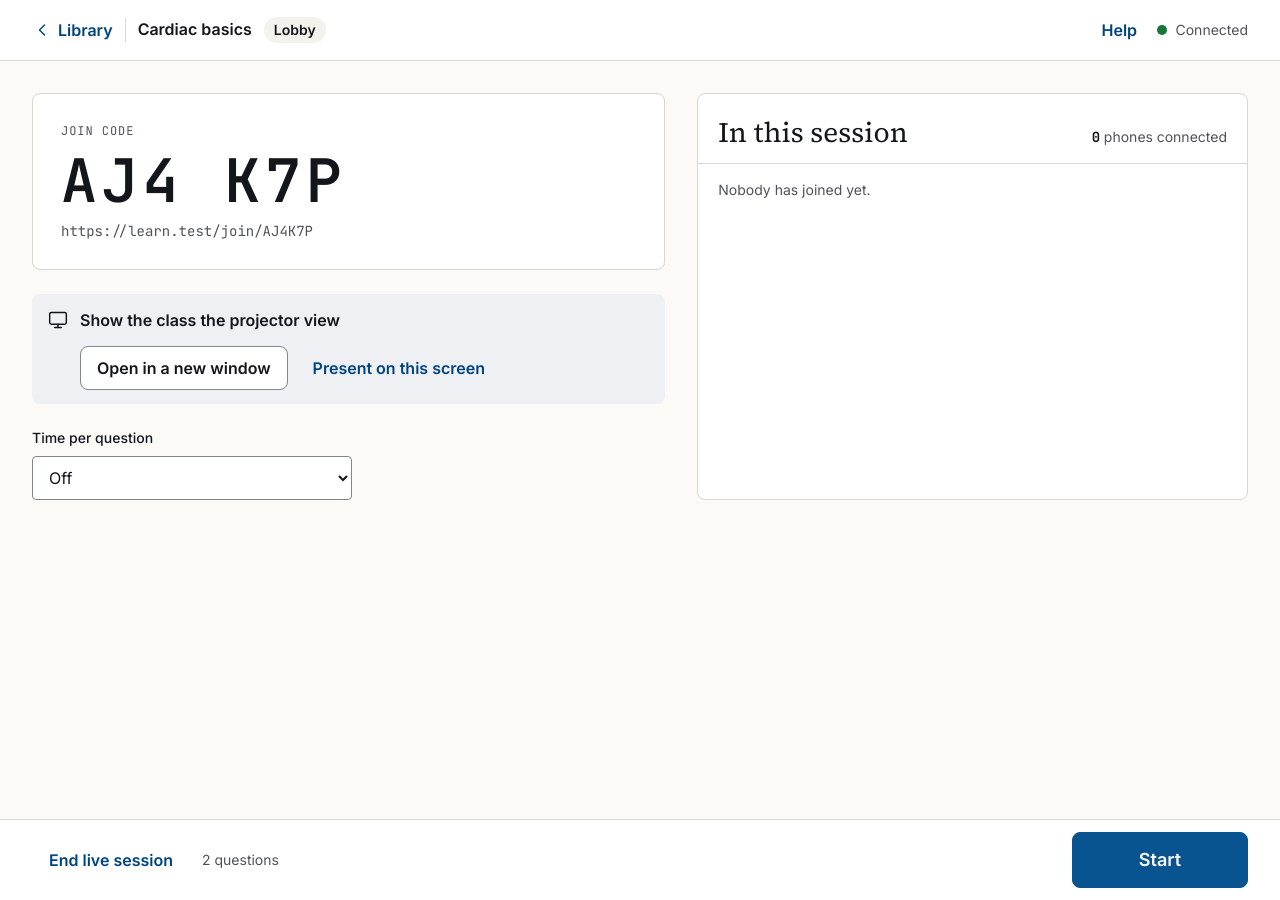
Test: the control view: one primary move at a time › keeps Next question off the bar until the answer is showing, so the reveal is never skipped
Click the button "Start": (1160, 860) top-left (1072, 832), bottom-right (1248, 888)
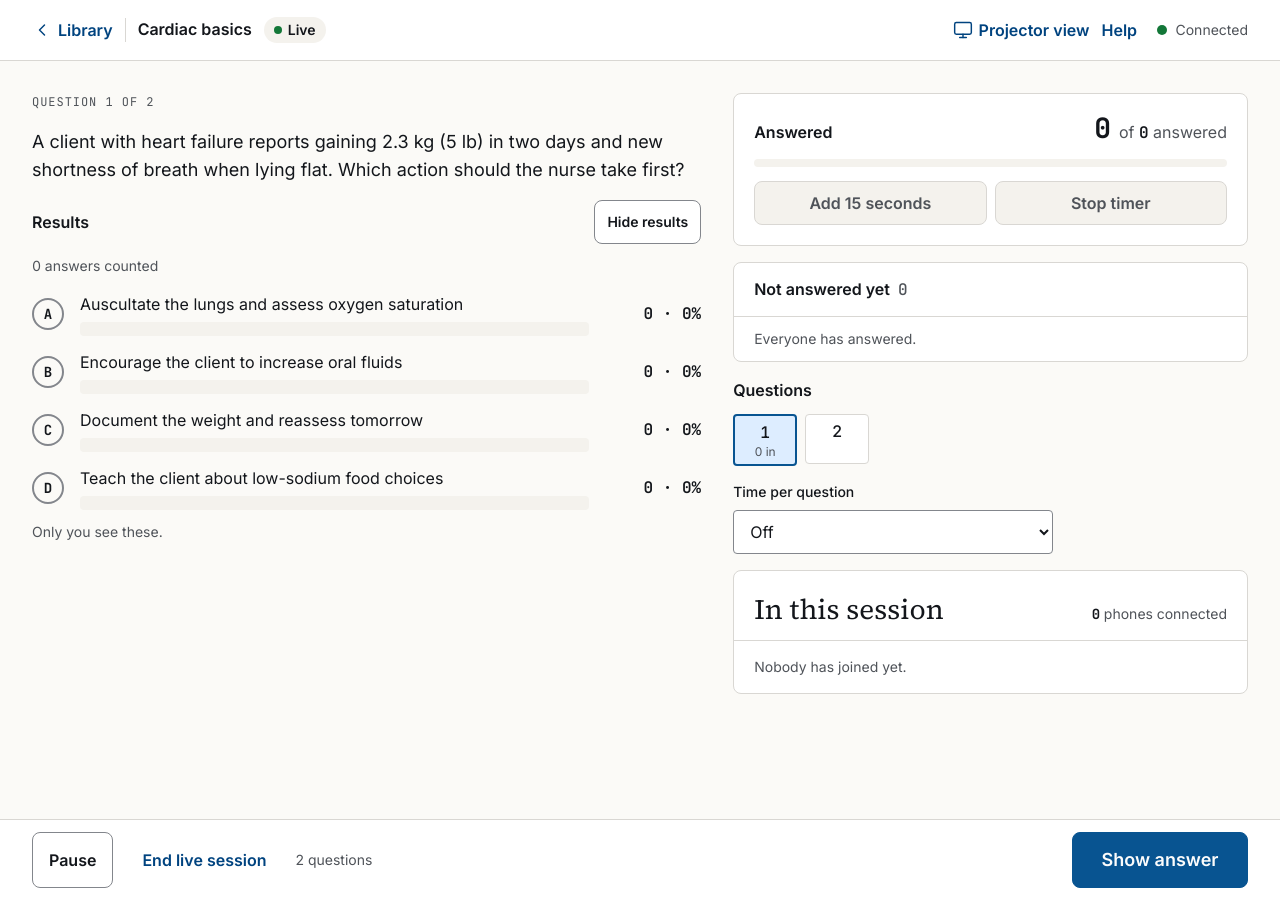
Check: the button "Next question" is not shown
Check: the button named "Go to question 2" is enabled, box top-left (805, 414), bottom-right (869, 464)
Click the button "Show answer": (1160, 860) top-left (1072, 832), bottom-right (1248, 888)
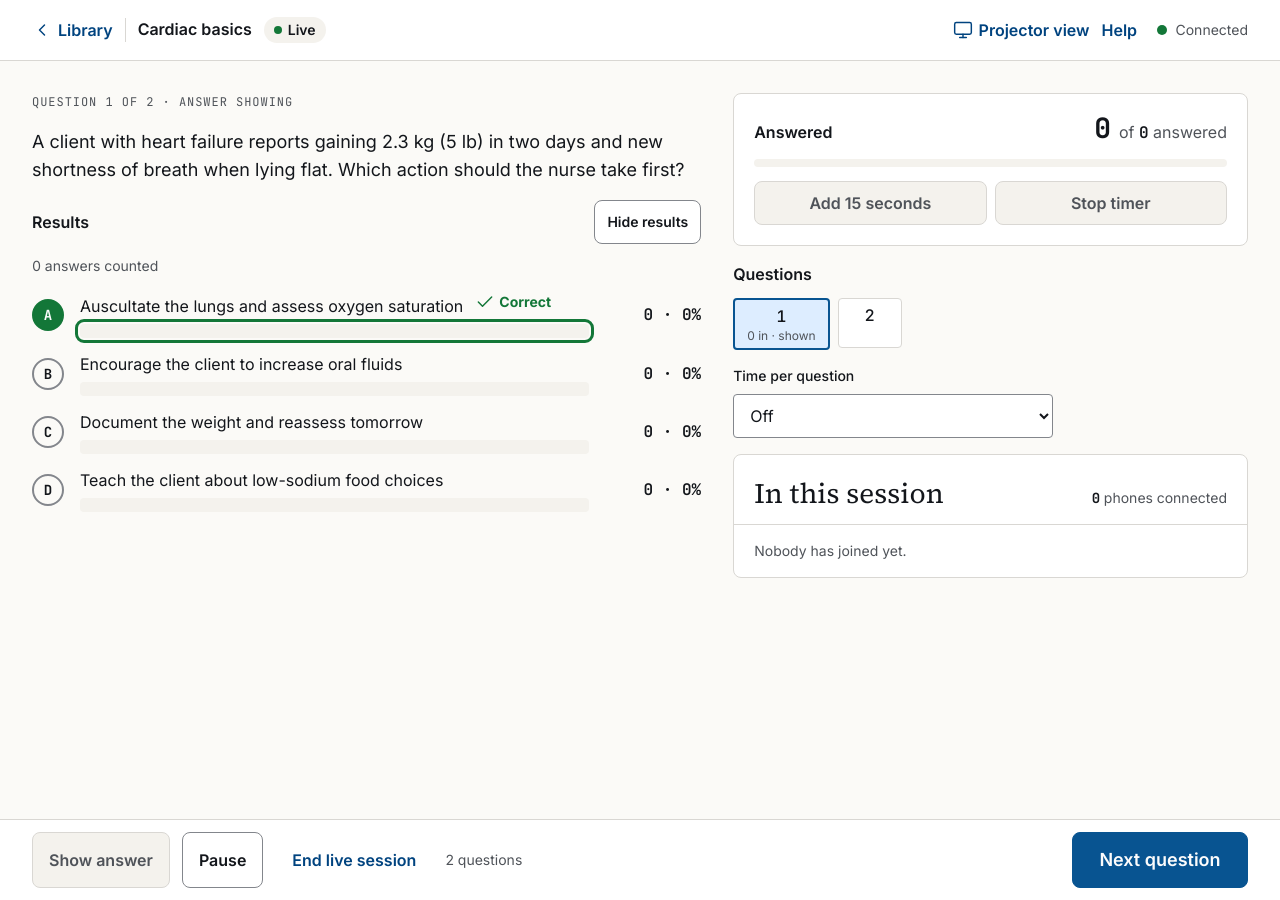
Check: the number of buttons "Next question" is 1, box top-left (1072, 832), bottom-right (1248, 888)
